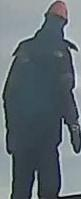gloves: (67, 118, 81, 154)
helmet: (43, 0, 69, 22)
vest: (13, 39, 77, 143)
